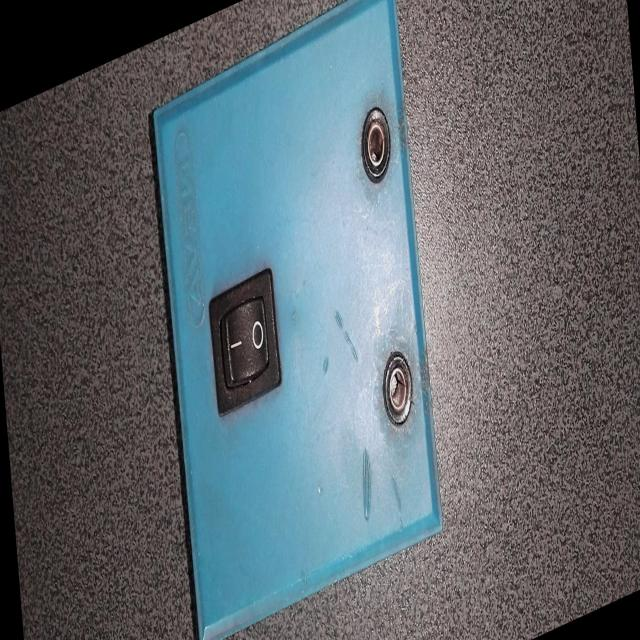ON-OFF Switch: (136, 0, 458, 640)
